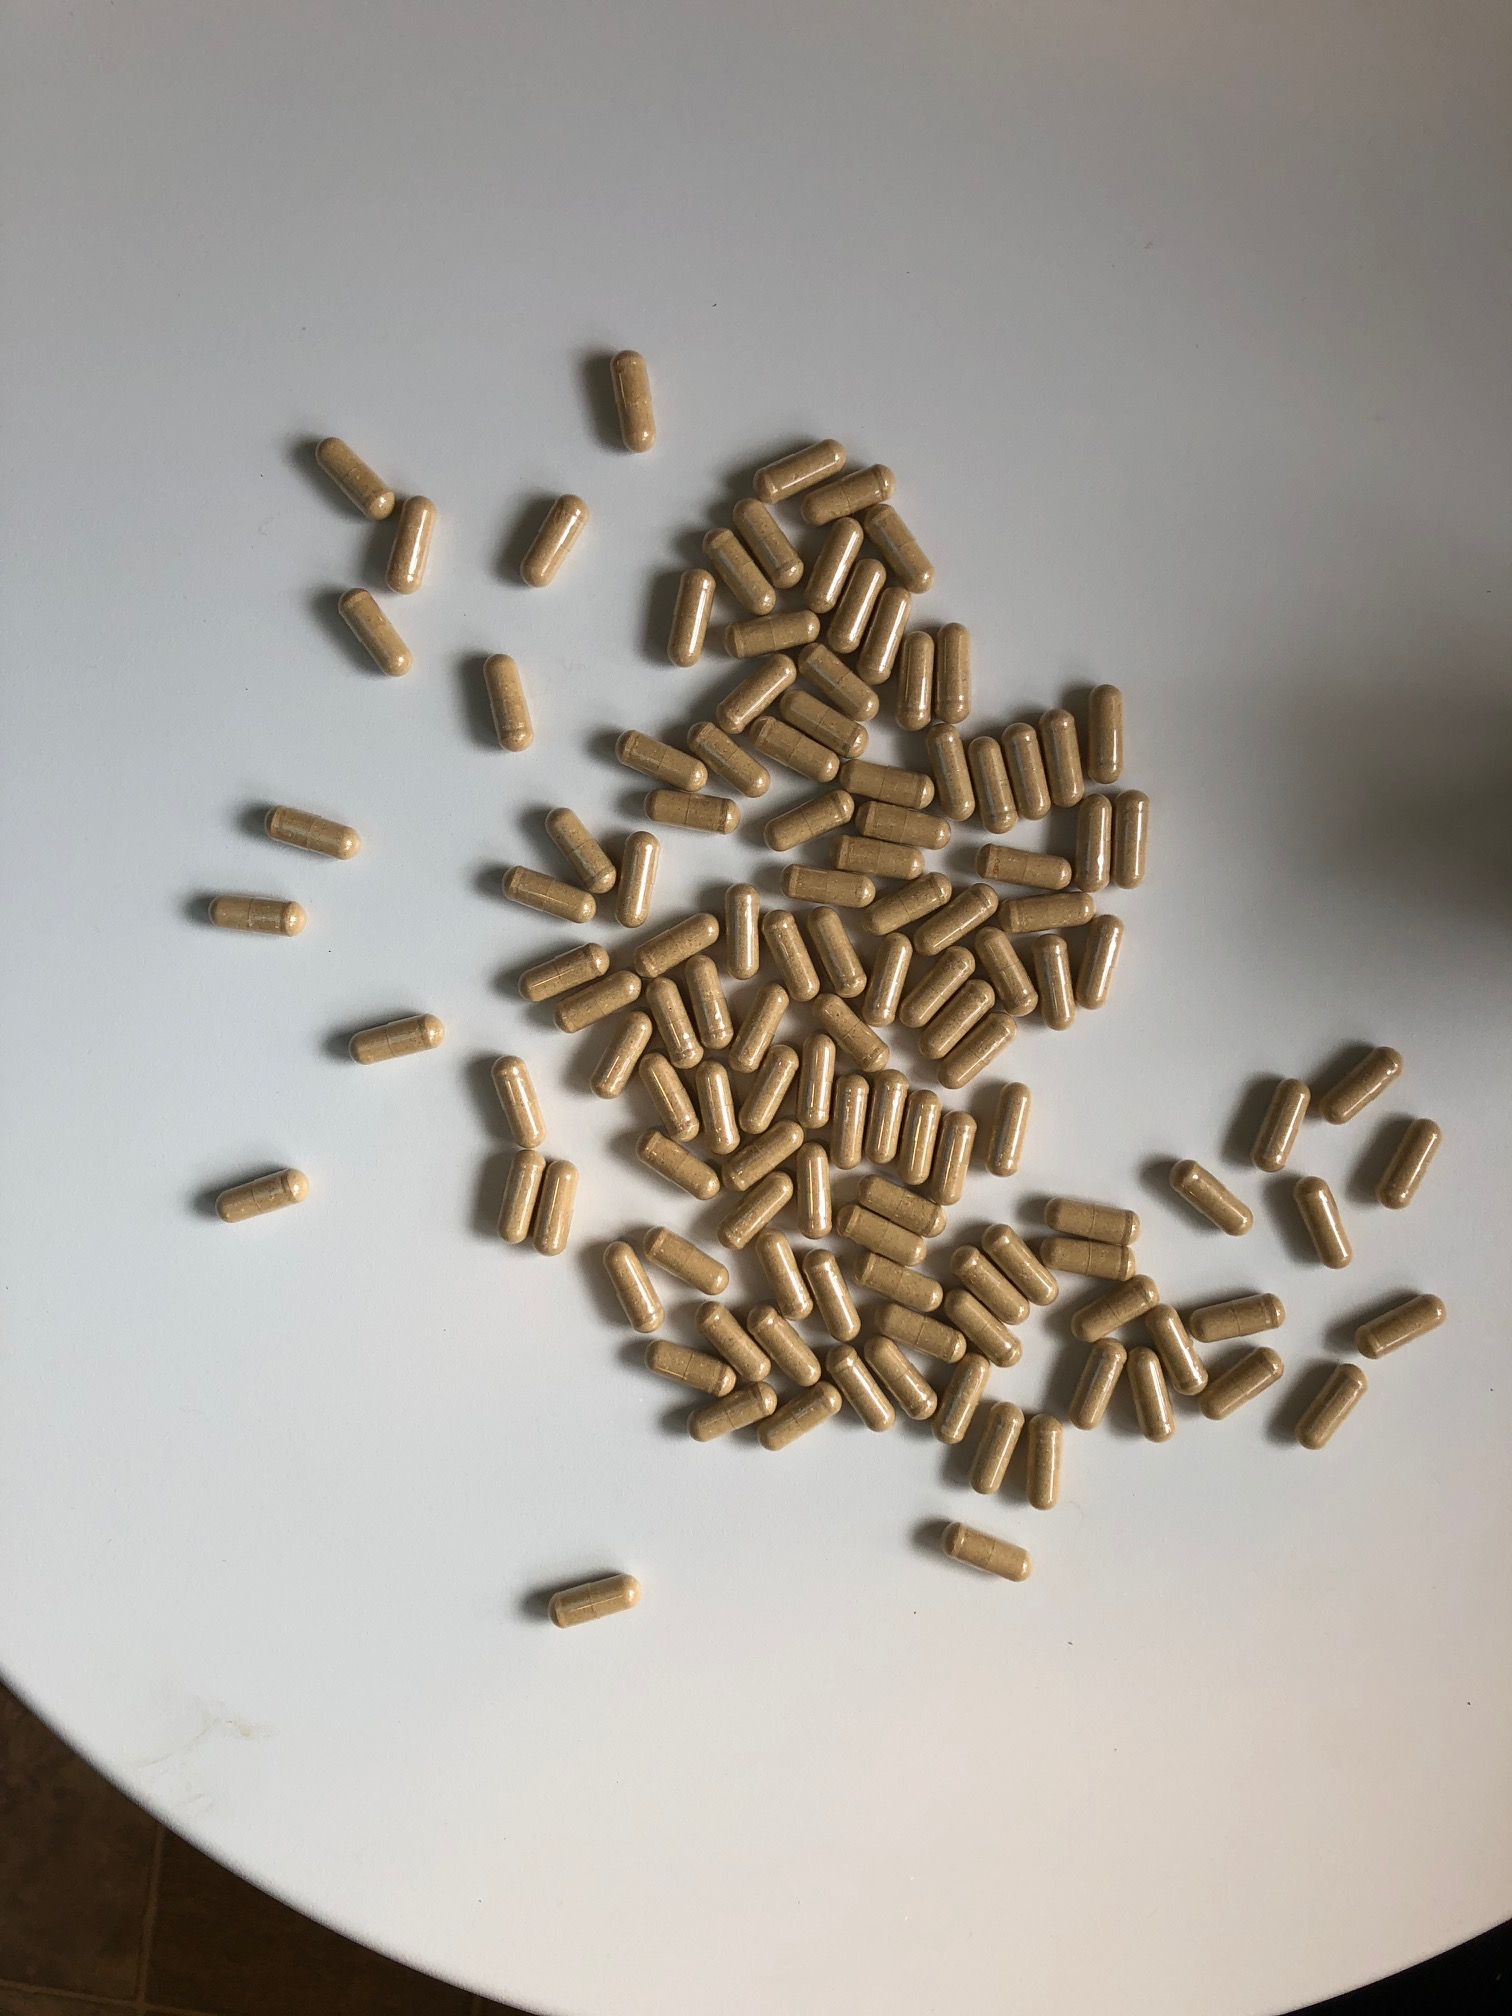capsule: (935, 1003, 1021, 1092), (1371, 1113, 1447, 1213), (980, 1221, 1066, 1310), (310, 435, 395, 522), (793, 640, 881, 724), (685, 714, 773, 798), (334, 586, 415, 678), (864, 500, 940, 597), (715, 649, 799, 737), (631, 905, 724, 983), (642, 1221, 735, 1298), (775, 684, 872, 759), (807, 992, 893, 1076), (942, 1284, 1026, 1370), (913, 975, 994, 1064), (743, 1298, 824, 1387), (859, 1333, 940, 1422), (1169, 1160, 1259, 1240), (700, 525, 778, 617), (542, 805, 619, 897), (907, 883, 1001, 959), (824, 1340, 901, 1433), (694, 1298, 777, 1384), (1199, 1345, 1286, 1425), (1291, 1364, 1371, 1452), (950, 1243, 1034, 1325), (1317, 1045, 1404, 1124), (899, 945, 977, 1033), (731, 495, 804, 589), (516, 494, 588, 589), (745, 713, 842, 783), (632, 1127, 723, 1202), (754, 1379, 845, 1454), (856, 868, 955, 937), (969, 924, 1040, 1018), (851, 1170, 951, 1237), (1144, 1298, 1210, 1399), (761, 787, 858, 856), (551, 964, 642, 1037), (834, 1198, 932, 1265), (602, 1238, 669, 1337), (716, 1168, 797, 1249), (750, 438, 850, 503), (642, 1333, 742, 1399), (588, 1008, 656, 1103), (1070, 1275, 1159, 1348), (611, 729, 710, 794), (797, 464, 897, 527), (759, 903, 823, 1003), (802, 903, 869, 998), (1290, 1175, 1356, 1270), (1352, 1294, 1448, 1359), (870, 1298, 967, 1364), (497, 864, 599, 925), (719, 1118, 804, 1192), (854, 578, 912, 686), (802, 514, 864, 613), (1067, 1335, 1129, 1433), (260, 805, 364, 864), (940, 1521, 1036, 1584), (804, 1245, 864, 1345), (605, 348, 661, 456), (214, 1164, 311, 1225), (518, 943, 615, 1005), (643, 973, 705, 1070), (824, 557, 886, 652), (685, 1379, 780, 1441), (1252, 1075, 1310, 1175), (739, 1041, 800, 1135), (731, 978, 789, 1076), (486, 1054, 546, 1149), (640, 1052, 704, 1143), (850, 1249, 945, 1310), (381, 492, 437, 595), (999, 719, 1055, 822), (851, 798, 956, 852), (1036, 703, 1086, 814), (345, 1013, 446, 1068), (756, 1227, 815, 1322), (481, 652, 535, 756), (1124, 1341, 1178, 1445), (923, 722, 978, 822), (550, 1570, 642, 1630), (859, 929, 913, 1030), (1186, 1291, 1286, 1345), (967, 735, 1020, 837), (681, 954, 735, 1052), (667, 567, 719, 667), (642, 787, 742, 840), (777, 860, 877, 913), (928, 1108, 980, 1208), (970, 1399, 1024, 1495), (1040, 1194, 1142, 1245), (835, 757, 934, 810), (982, 1079, 1032, 1179), (824, 830, 928, 879), (893, 629, 939, 737), (975, 841, 1075, 891), (1037, 1233, 1137, 1283), (723, 610, 821, 659), (691, 1057, 740, 1156), (1078, 683, 1126, 784), (996, 886, 1097, 933), (1029, 933, 1077, 1035), (496, 1148, 546, 1243), (931, 621, 977, 725), (1075, 913, 1124, 1010), (1069, 794, 1117, 894), (719, 879, 766, 983), (1109, 787, 1151, 894), (532, 1157, 577, 1259), (793, 1138, 837, 1240), (896, 1087, 940, 1187), (616, 832, 661, 930), (829, 1068, 870, 1172), (205, 894, 307, 935), (866, 1067, 907, 1167), (1024, 1413, 1066, 1513), (797, 1029, 835, 1129)
